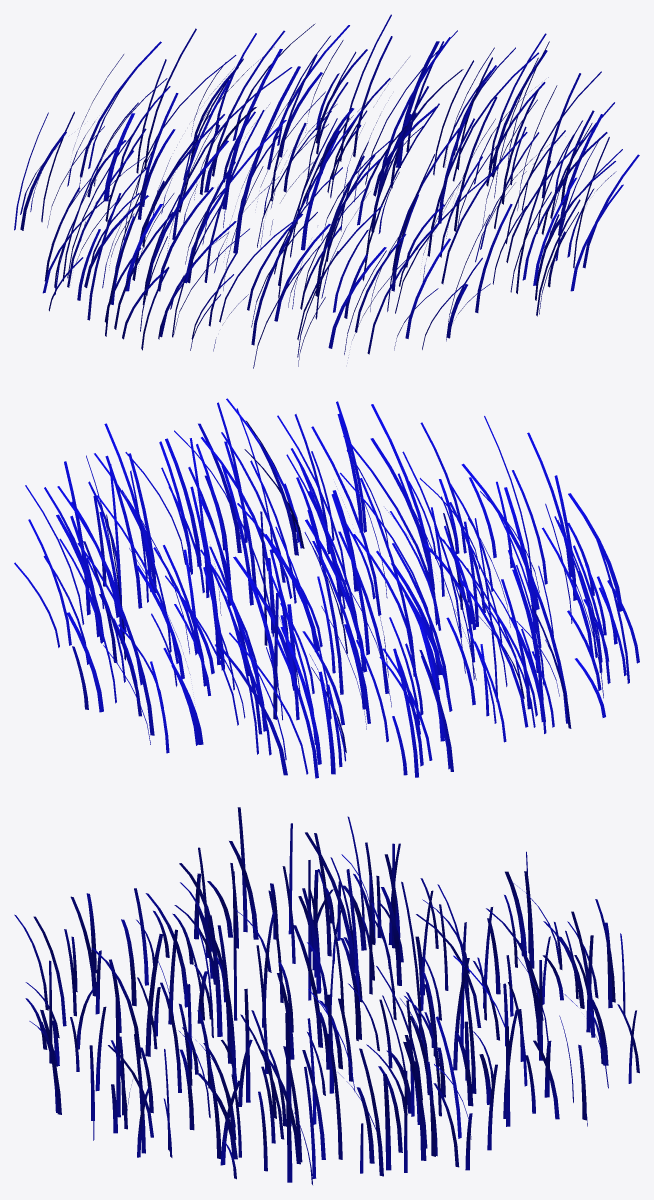
The model's file is seagrass_patch.glb.
3 views of the same model, one above another, from view 1: azimuth 30°, elevation 25°; view 2: azimuth 150°, elevation 25°; view 3: azimuth 270°, elevation 25° (orthographic). The views are drawn at different scales.
Parts seen in each view (by area): view 1: seagrass_patch; view 2: seagrass_patch; view 3: seagrass_patch.
Part boxes in pixels (x1,y1,x2,y2): seagrass_patch: [14, 14, 639, 368]; seagrass_patch: [14, 398, 639, 778]; seagrass_patch: [14, 807, 639, 1184].
Size of what is drawn, in the model's own units: 2.9 by 0.9175 by 2.74.
